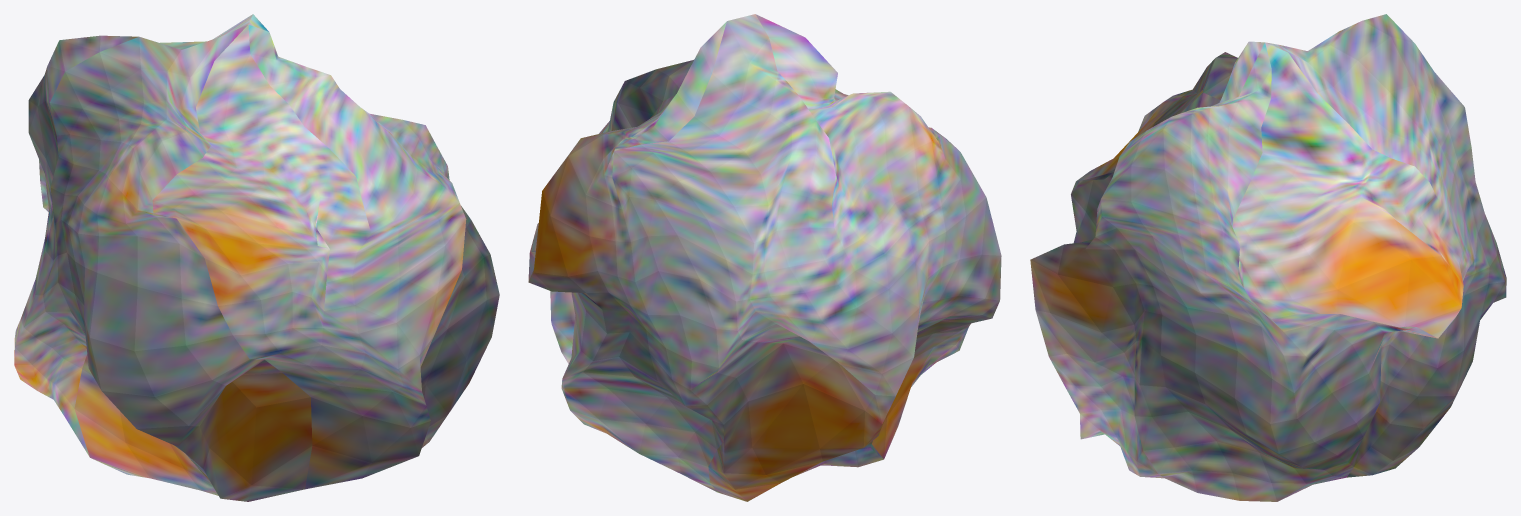
3 renders of one model, left to right at view 1: azimuth 30°, elevation 25°; view 2: azimuth 150°, elevation 25°; view 3: azimuth 270°, elevation 25°, orthographic. The views are drawn at different scales.
Visible parts, largest first — view 1: pMesh1; view 2: pMesh1; view 3: pMesh1.
Part boxes in pixels (x1,y1,x2,y2): pMesh1: (14, 14, 499, 501); pMesh1: (528, 14, 1001, 501); pMesh1: (1030, 14, 1506, 501).
Bounding box in the file's own units: 2.17 × 2.24 × 2.33.
Materials: 1 (1 with a texture image).
